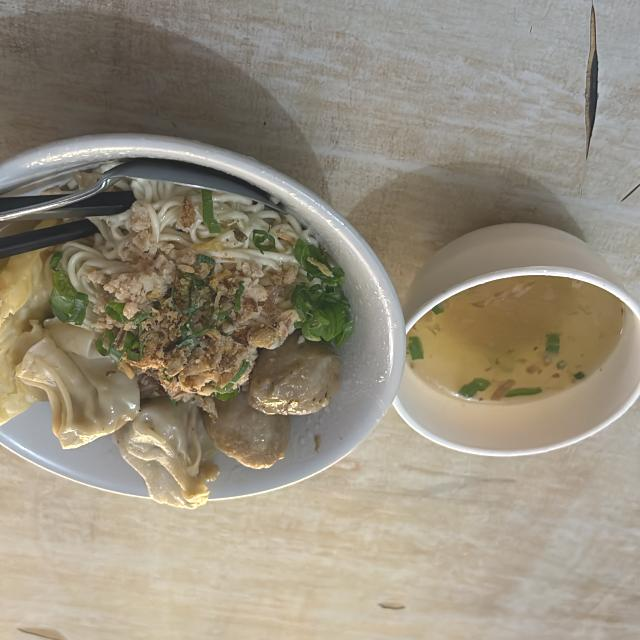bakso: (0, 168, 352, 504)
